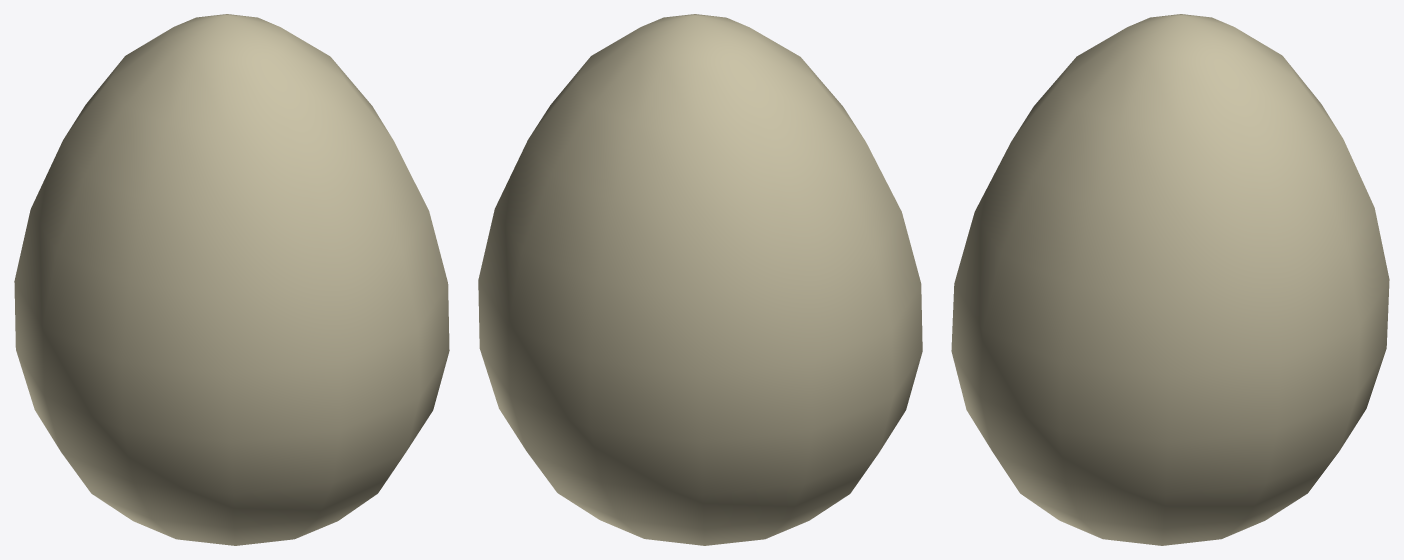
The model's file is Egg.fbx.
The picture shows the model from 3 angles, left to right: view 1: azimuth 30°, elevation 25°; view 2: azimuth 150°, elevation 25°; view 3: azimuth 270°, elevation 25°; orthographic projection. The views are drawn at different scales.
Parts seen in each view (by area): view 1: Sphere; view 2: Sphere; view 3: Sphere.
Boxes of the visible parts, left/top/right/bottom form: Sphere: left=14, top=14, right=449, bottom=545; Sphere: left=478, top=14, right=922, bottom=545; Sphere: left=951, top=14, right=1389, bottom=545.
Size of the model in its own units: 21.51 by 27.66 by 21.47.
